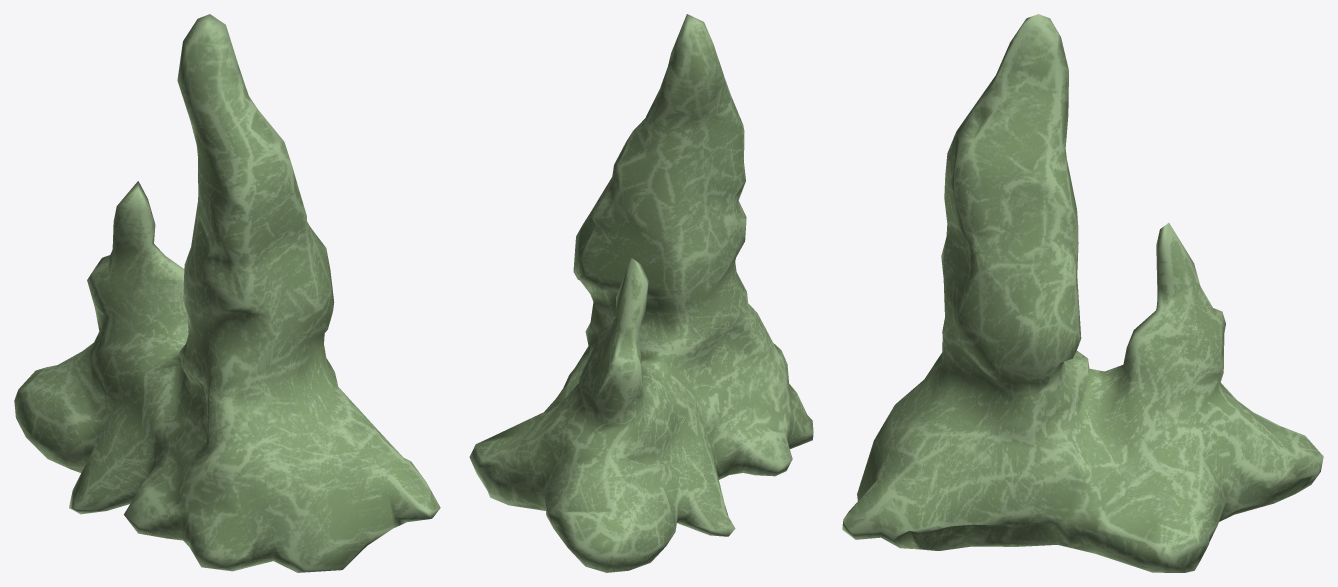
File: pillar.glb
3 renders of one model, left to right at view 1: azimuth 30°, elevation 25°; view 2: azimuth 150°, elevation 25°; view 3: azimuth 270°, elevation 25°, orthographic. The views are drawn at different scales.
Parts seen in each view (by area): view 1: Pillar; view 2: Pillar; view 3: Pillar.
Part boxes in pixels (x1=…): Pillar: x1=14, y1=14, x2=440, y2=572; Pillar: x1=469, y1=14, x2=813, y2=572; Pillar: x1=842, y1=14, x2=1323, y2=572.
Bounding box in the file's own units: 2.14 × 4 × 3.44.
1 material, 1 textured.
